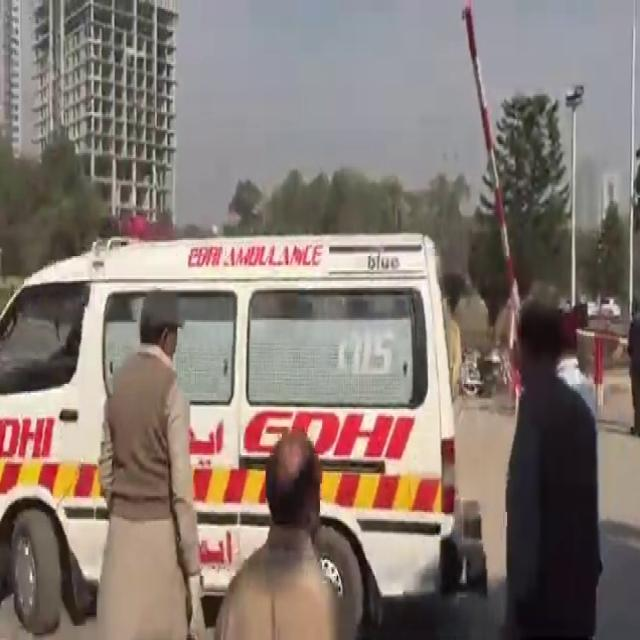ambulance: (2, 232, 450, 594)
